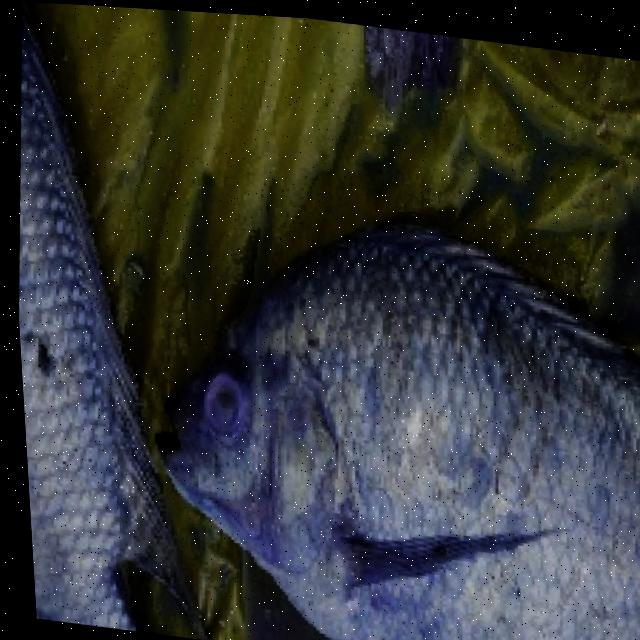Non-Fresh: (95, 205, 640, 640)
